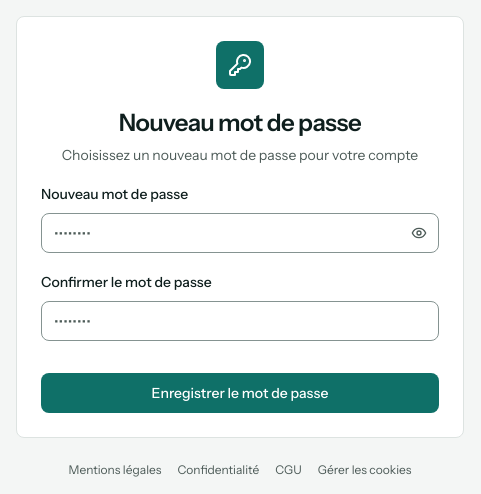
ResetPasswordPage › resets the password with the token from the link
Type "Nouveau1!" into the password field labelled "Nouveau mot de passe". click: (240, 233)
box: [41, 213, 439, 253]
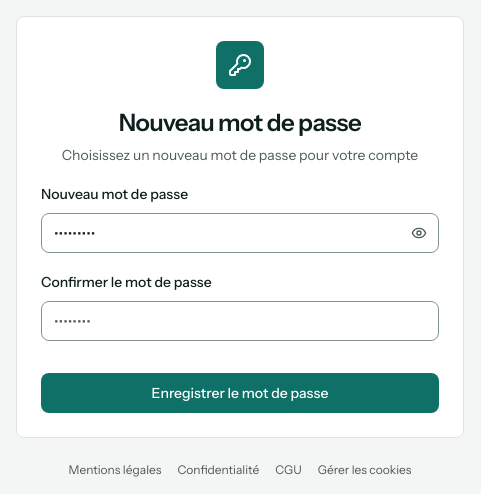
Type "Nouveau1!" into the password field labelled "Confirmer le mot de passe". click: (240, 321)
box: [41, 301, 439, 341]
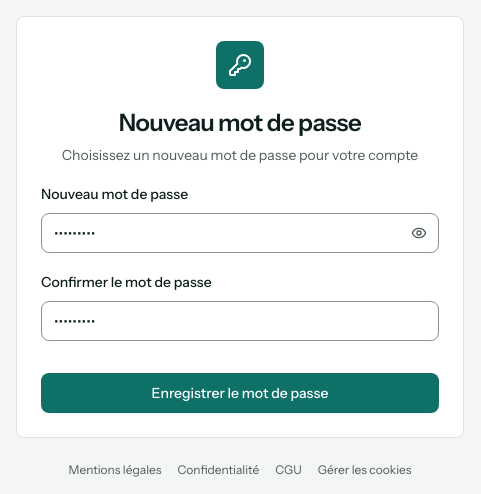
Click the button "Enregistrer le mot de passe". click: (240, 393)
box: [41, 373, 439, 413]
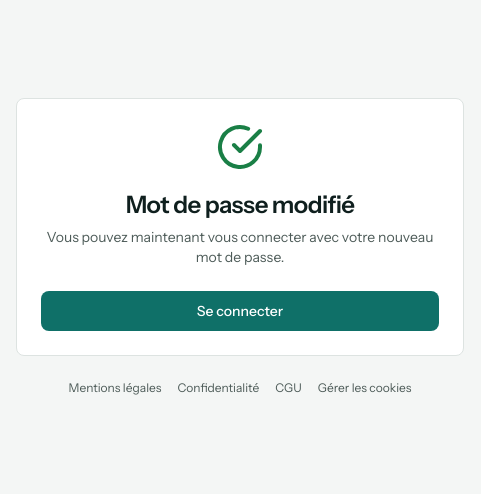
expect the heading "Mot de passe modifié" is shown: met, box [126, 190, 354, 219]
